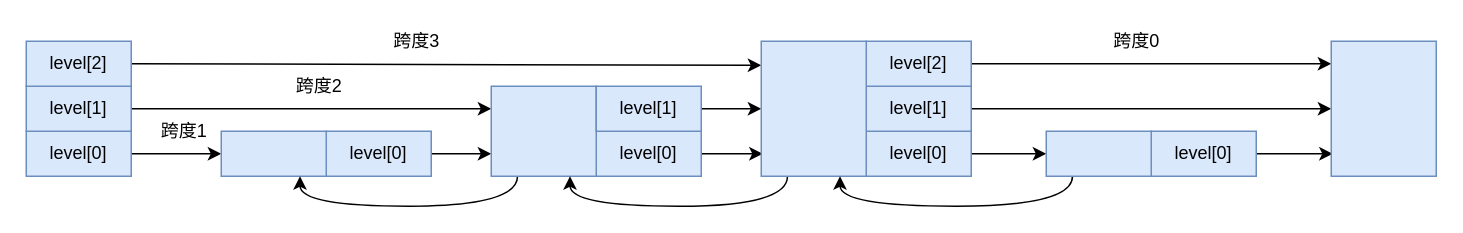
The diagram is 1463 pixels wide and 233 high, and some of its shapes have lost their labels. Each missing label, with the centre of its shape:
"1 : a" belongs at (x=273, y=153).
"2 : b" belongs at (x=543, y=130).
"3 : c" belongs at (x=813, y=108).
"4 : d" belongs at (x=1098, y=153).
"null" belongs at (x=1383, y=108).
